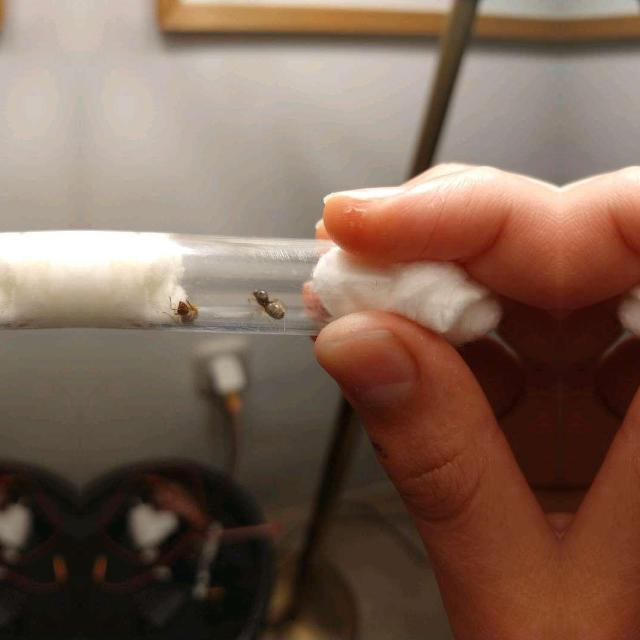Lasius: (245, 286, 288, 320), (159, 296, 203, 326)
